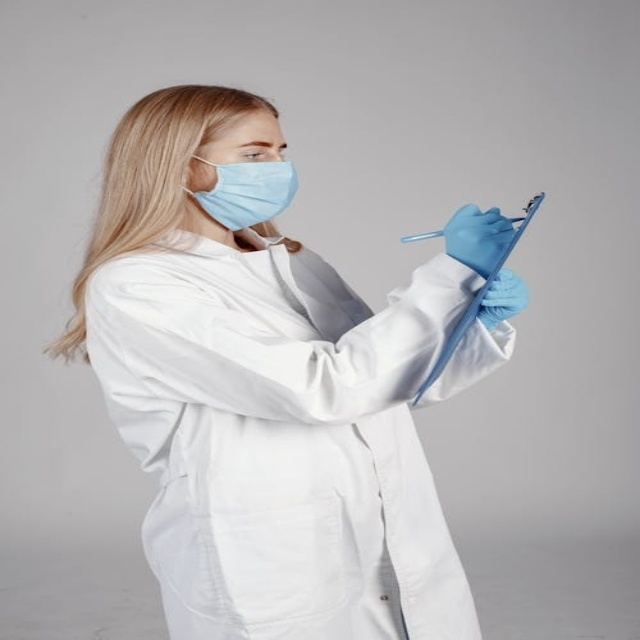Guantes: (443, 203, 524, 277), (477, 268, 529, 330)
Mascara: (184, 155, 299, 230)
Sin_gafas: (215, 139, 292, 160)
